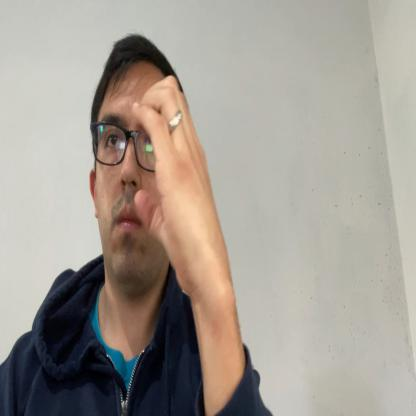C: (133, 74, 223, 291)
